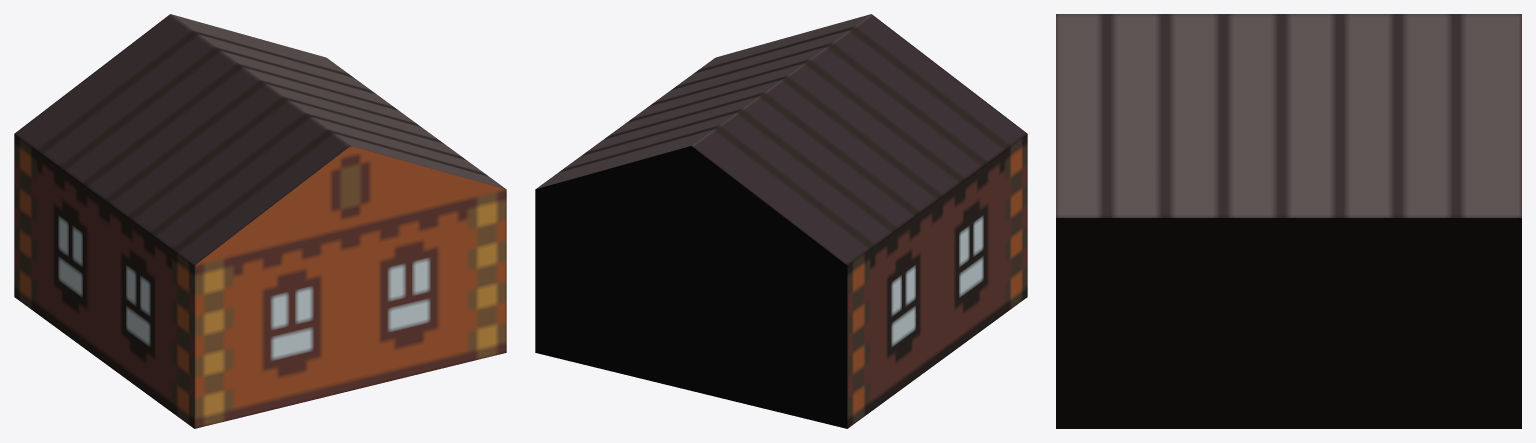
File: hut.FBX
The picture shows the model from 3 angles, left to right: view 1: azimuth 30°, elevation 25°; view 2: azimuth 150°, elevation 25°; view 3: azimuth 270°, elevation 25°; orthographic projection. The views are drawn at different scales.
Visible parts, largest first — view 1: Box001; view 2: Box001; view 3: Box001.
Part boxes in pixels (x1=…): Box001: x1=14, y1=14, x2=506, y2=428; Box001: x1=535, y1=14, x2=1027, y2=428; Box001: x1=1056, y1=14, x2=1521, y2=428.
Size of the model in its own units: 64 by 48 by 64.
1 material, 1 textured.
